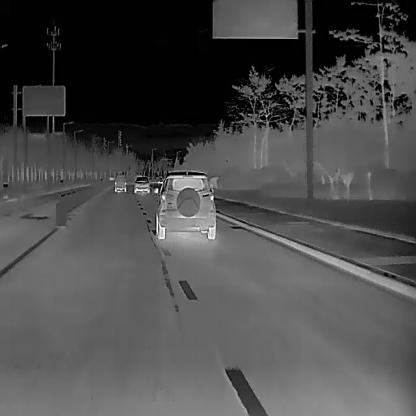car: (153, 170, 216, 239), (132, 176, 150, 192), (113, 174, 126, 191)
